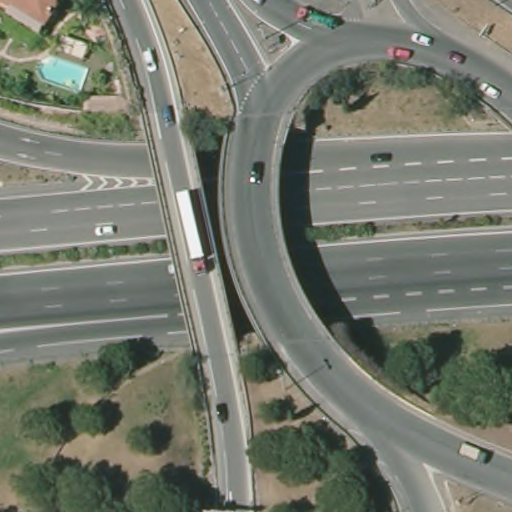pool: (32, 55, 93, 94)
